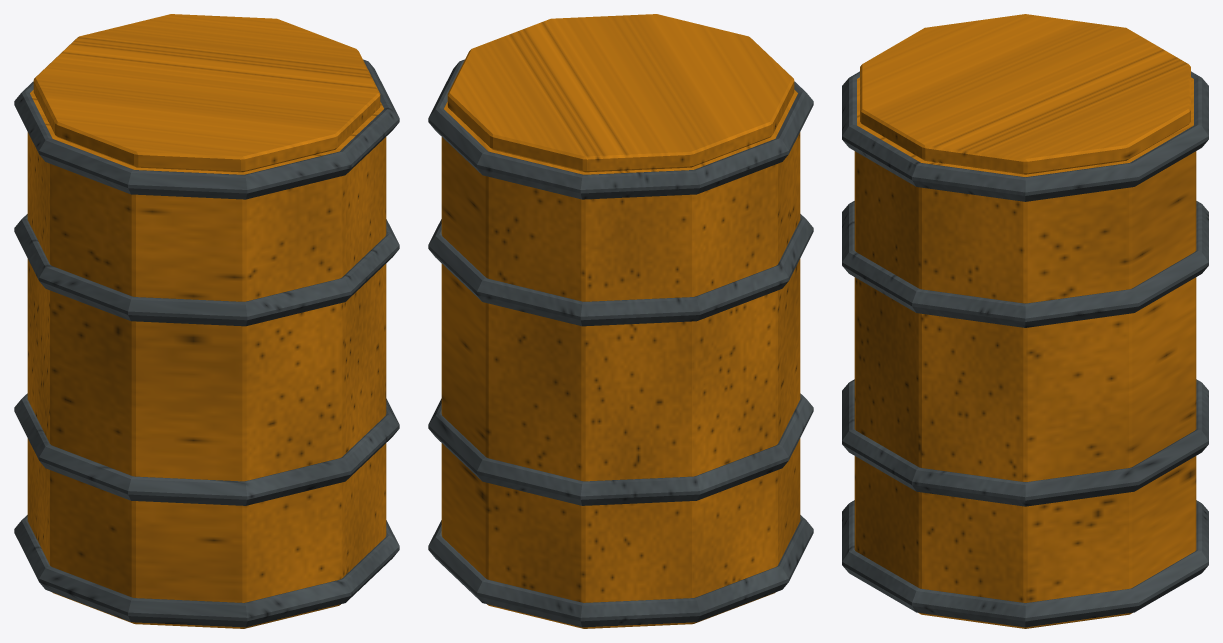
The model's file is PROP-1D0869785A01_lod1.glb.
3 views of the same model, side by side, from view 1: azimuth 30°, elevation 25°; view 2: azimuth 150°, elevation 25°; view 3: azimuth 270°, elevation 25° (orthographic).
Visible parts, largest first — view 1: barrel_body.001, barrel_lid.001, barrel_ribs.001; view 2: barrel_body.001, barrel_lid.001, barrel_ribs.001; view 3: barrel_body.001, barrel_ribs.001, barrel_lid.001.
Part boxes in pixels (x1=…): barrel_body.001: x1=27, y1=90, x2=386, y2=628; barrel_lid.001: x1=33, y1=14, x2=380, y2=172; barrel_ribs.001: x1=14, y1=59, x2=399, y2=627; barrel_body.001: x1=441, y1=90, x2=800, y2=628; barrel_lid.001: x1=447, y1=14, x2=794, y2=172; barrel_ribs.001: x1=428, y1=59, x2=813, y2=627; barrel_body.001: x1=854, y1=77, x2=1196, y2=628; barrel_ribs.001: x1=842, y1=71, x2=1208, y2=627; barrel_lid.001: x1=860, y1=14, x2=1190, y2=174.
Bounding box in the file's own units: 0.6652 × 0.89 × 0.6327.
2 materials, 2 textured.
